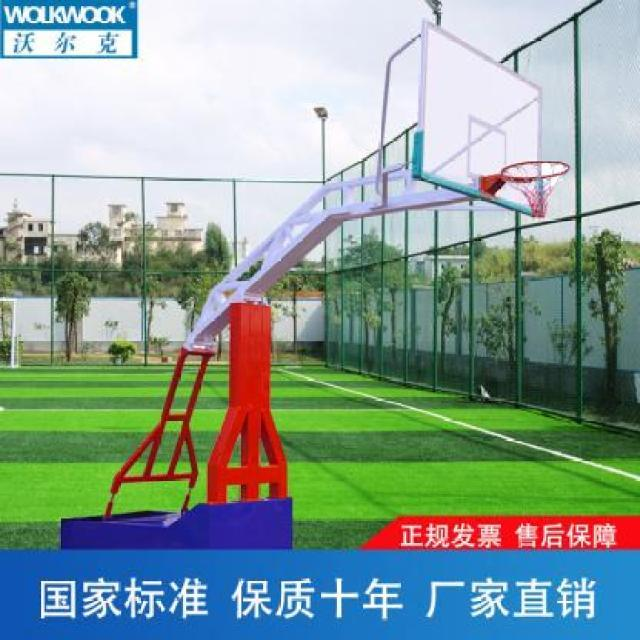rim: (502, 160, 570, 217)
